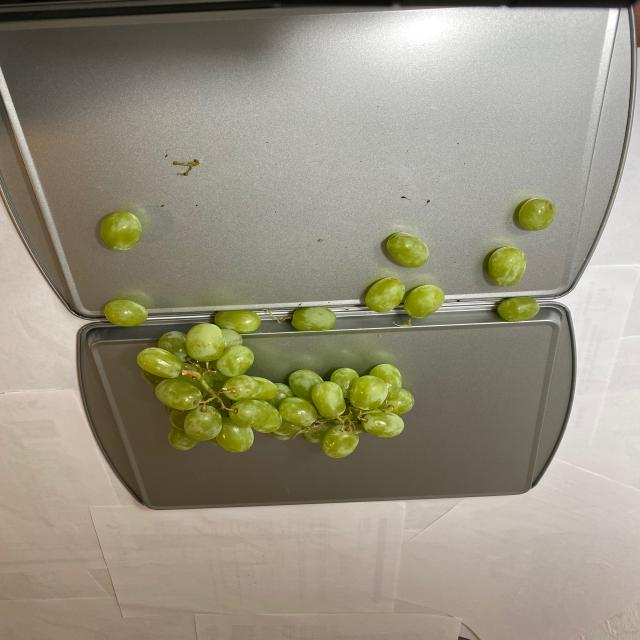grapes: (107, 197, 555, 454)
